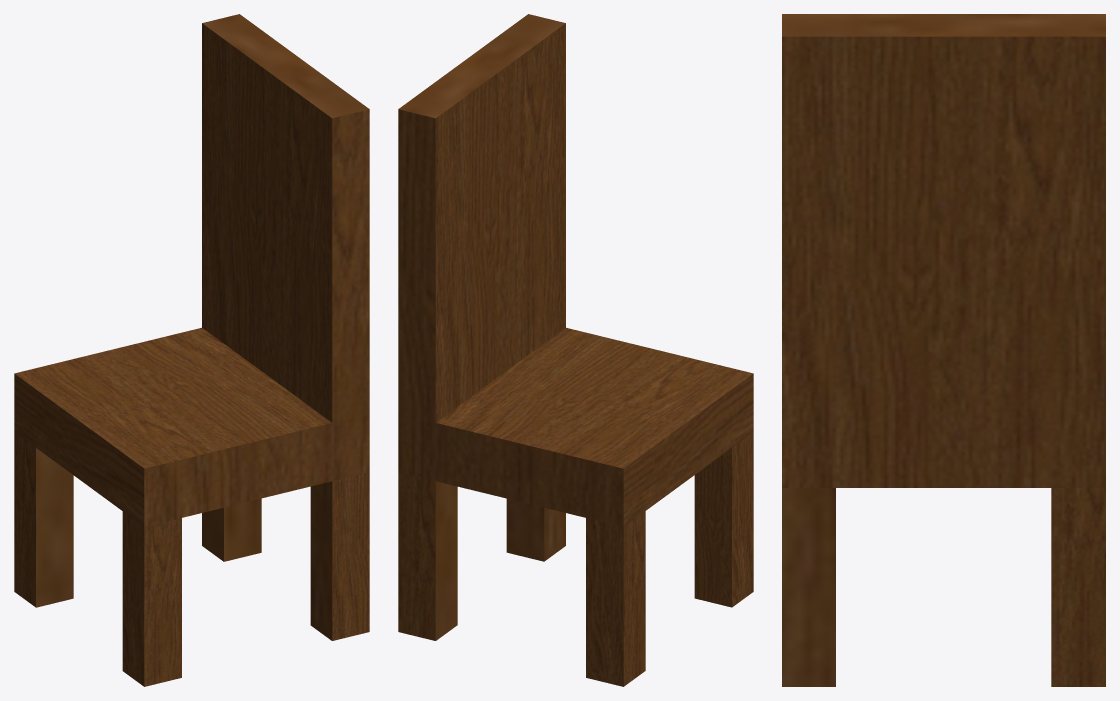
File: chair.gltf
3 views of the same model, side by side, from view 1: azimuth 30°, elevation 25°; view 2: azimuth 150°, elevation 25°; view 3: azimuth 270°, elevation 25° (orthographic). The views are drawn at different scales.
Parts seen in each view (by area): view 1: Chair; view 2: Chair; view 3: Chair.
Part boxes in pixels (<box>): Chair: <box>14,14,369,686</box>; Chair: <box>398,14,753,686</box>; Chair: <box>782,14,1105,686</box>.
Size of the model in its own units: 2 by 4.43 by 2.
Materials: 1 (1 with a texture image).
